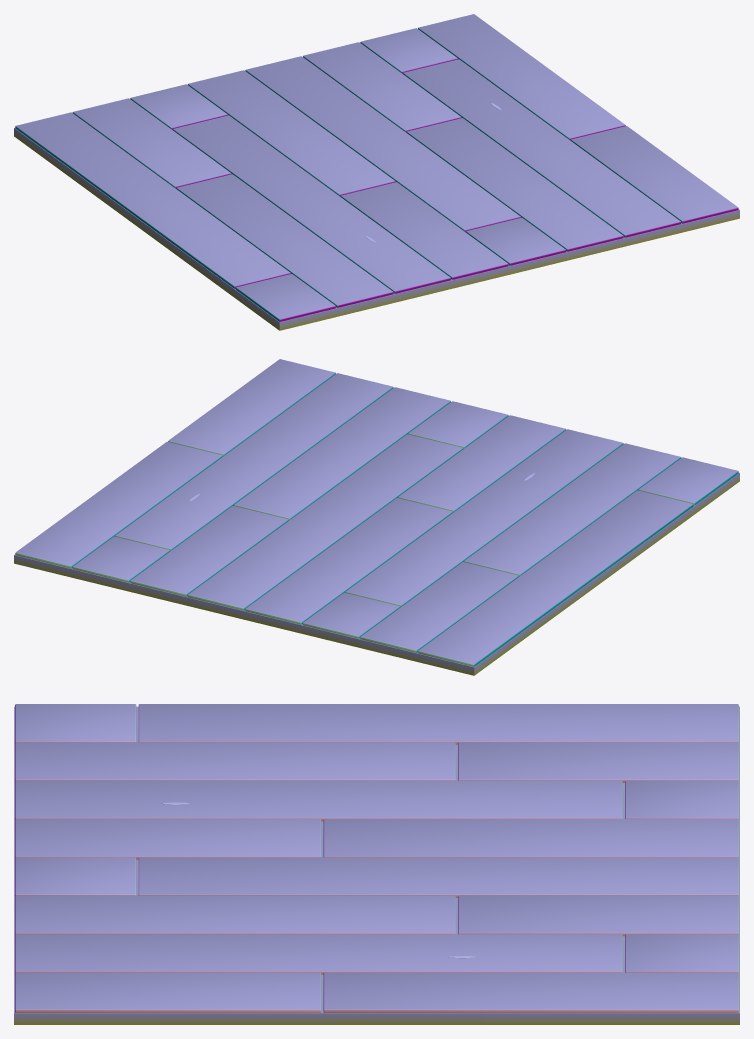
File: env_floor_wood.glb
3 renders of one model, top to bottom at view 1: azimuth 30°, elevation 25°; view 2: azimuth 150°, elevation 25°; view 3: azimuth 270°, elevation 25°, orthographic. The views are drawn at different scales.
Parts seen in each view (by area): view 1: env_floor_wood_mesh; view 2: env_floor_wood_mesh; view 3: env_floor_wood_mesh.
Boxes of the visible parts, left/top/right/bottom form: env_floor_wood_mesh: left=14, top=14, right=739, bottom=330; env_floor_wood_mesh: left=14, top=359, right=739, bottom=675; env_floor_wood_mesh: left=14, top=704, right=739, bottom=1024.
Size of the model in its own units: 2 by 0.0462 by 2.
